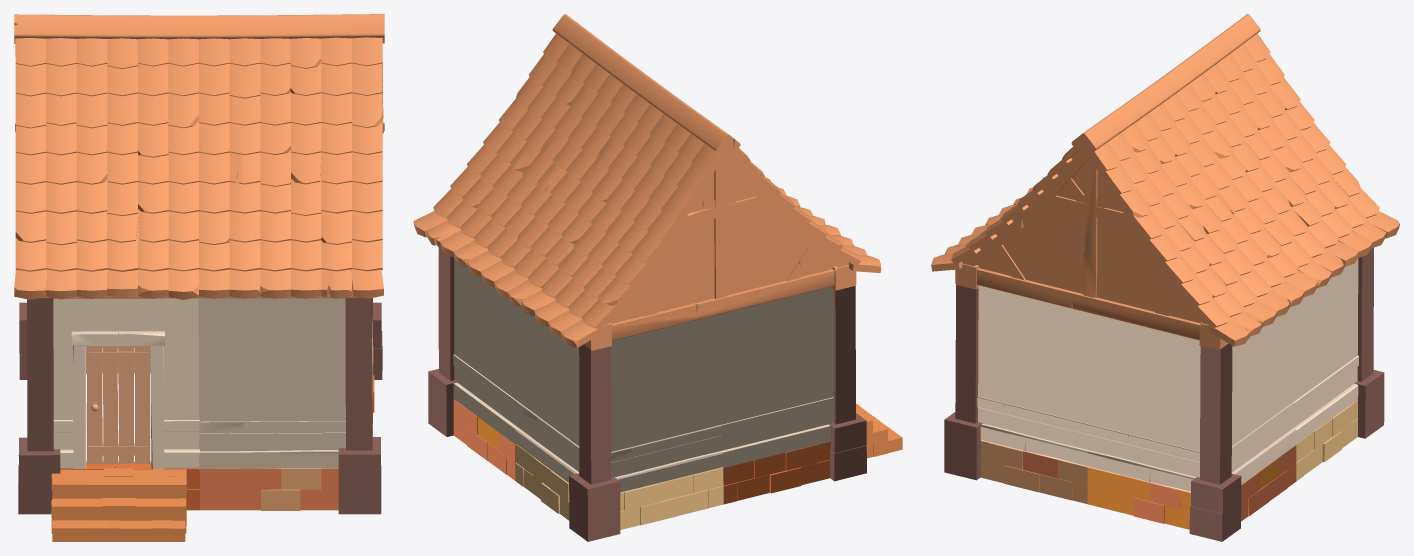
The model's file is casa6.glb.
3 renders of one model, left to right at view 1: azimuth 30°, elevation 25°; view 2: azimuth 150°, elevation 25°; view 3: azimuth 270°, elevation 25°, orthographic. The views are drawn at different scales.
Visible parts, largest first — view 1: imagetostl_mesh0, imagetostl_mesh64.001, imagetostl_mesh6, imagetostl_mesh4, imagetostl_mesh9, imagetostl_mesh33, imagetostl_mesh35, imagetostl_mesh13, imagetostl_mesh5, imagetostl_mesh12, imagetostl_mesh21, imagetostl_mesh38 (+1 smaller); view 2: imagetostl_mesh0, imagetostl_mesh61, imagetostl_mesh58, imagetostl_mesh57, imagetostl_mesh54, imagetostl_mesh42, imagetostl_mesh18, imagetostl_mesh35, imagetostl_mesh21, imagetostl_mesh38, imagetostl_mesh15, imagetostl_mesh4; view 3: imagetostl_mesh0, imagetostl_mesh64.002, imagetostl_mesh62, imagetostl_mesh54, imagetostl_mesh57, imagetostl_mesh38, imagetostl_mesh33, imagetostl_mesh42, imagetostl_mesh12, imagetostl_mesh16, imagetostl_mesh15, imagetostl_mesh18 (+1 smaller).
Boxes of the visible parts, x1=… form: imagetostl_mesh0: x1=14, y1=14, x2=384, y2=299; imagetostl_mesh64.001: x1=198, y1=298, x2=345, y2=469; imagetostl_mesh6: x1=53, y1=298, x2=199, y2=469; imagetostl_mesh4: x1=51, y1=468, x2=186, y2=541; imagetostl_mesh9: x1=87, y1=346, x2=150, y2=464; imagetostl_mesh33: x1=338, y1=297, x2=381, y2=514; imagetostl_mesh35: x1=18, y1=298, x2=60, y2=514; imagetostl_mesh13: x1=200, y1=468, x2=338, y2=510; imagetostl_mesh5: x1=52, y1=469, x2=186, y2=541; imagetostl_mesh12: x1=241, y1=426, x2=373, y2=510; imagetostl_mesh21: x1=60, y1=461, x2=199, y2=510; imagetostl_mesh38: x1=372, y1=298, x2=382, y2=379; imagetostl_mesh0: x1=413, y1=14, x2=881, y2=350; imagetostl_mesh61: x1=721, y1=286, x2=834, y2=467; imagetostl_mesh58: x1=611, y1=314, x2=723, y2=492; imagetostl_mesh57: x1=453, y1=257, x2=518, y2=444; imagetostl_mesh54: x1=515, y1=306, x2=579, y2=482; imagetostl_mesh42: x1=569, y1=344, x2=620, y2=541; imagetostl_mesh18: x1=515, y1=444, x2=723, y2=529; imagetostl_mesh35: x1=828, y1=286, x2=866, y2=481; imagetostl_mesh21: x1=723, y1=441, x2=830, y2=504; imagetostl_mesh38: x1=428, y1=247, x2=457, y2=436; imagetostl_mesh15: x1=453, y1=399, x2=515, y2=480; imagetostl_mesh4: x1=856, y1=403, x2=902, y2=456; imagetostl_mesh0: x1=931, y1=14, x2=1399, y2=349; imagetostl_mesh64.002: x1=977, y1=285, x2=1090, y2=466; imagetostl_mesh62: x1=1087, y1=313, x2=1200, y2=492; imagetostl_mesh54: x1=1292, y1=258, x2=1358, y2=443; imagetostl_mesh57: x1=1231, y1=306, x2=1296, y2=484; imagetostl_mesh38: x1=1189, y1=343, x2=1241, y2=541; imagetostl_mesh33: x1=944, y1=284, x2=982, y2=480; imagetostl_mesh42: x1=1354, y1=247, x2=1384, y2=438; imagetostl_mesh12: x1=980, y1=440, x2=1087, y2=503; imagetostl_mesh16: x1=1087, y1=458, x2=1294, y2=529; imagetostl_mesh15: x1=1089, y1=445, x2=1296, y2=523; imagetostl_mesh18: x1=1296, y1=400, x2=1357, y2=481.
Bounding box in the file's own units: 1.02 × 0.9196 × 1.04.
